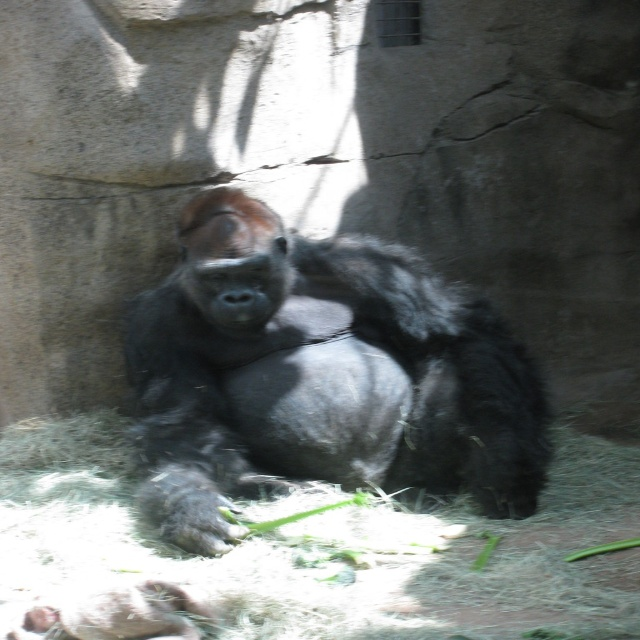Monkey: (143, 186, 552, 555)
